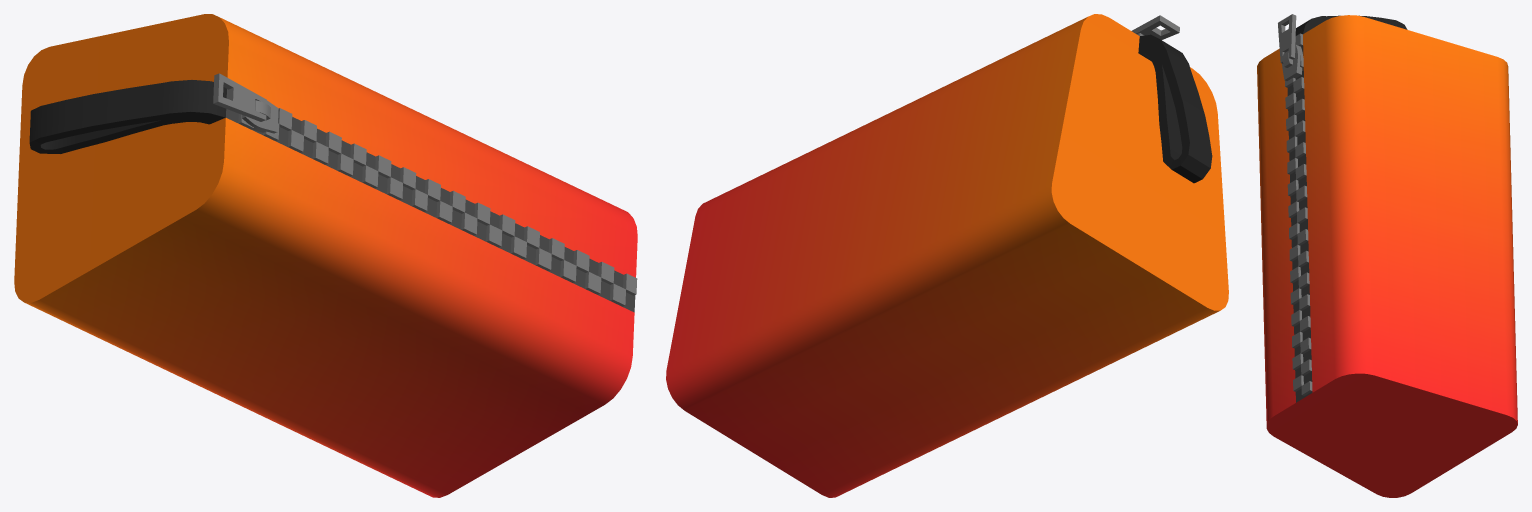
The model's file is clutch_bag.glb.
3 views of the same model, side by side, from view 1: azimuth 30°, elevation 25°; view 2: azimuth 150°, elevation 25°; view 3: azimuth 270°, elevation 25° (orthographic). The views are drawn at different scales.
Parts seen in each view (by area): view 1: Cube.6110; view 2: Cube.6110; view 3: Cube.6110.
Part boxes in pixels (x1,y1,x2,y2): Cube.6110: [14, 14, 637, 497]; Cube.6110: [666, 14, 1228, 497]; Cube.6110: [1257, 14, 1517, 497].
Bounding box in the file's own units: 2.05 × 1.87 × 1.11.
1 material, 1 textured.
